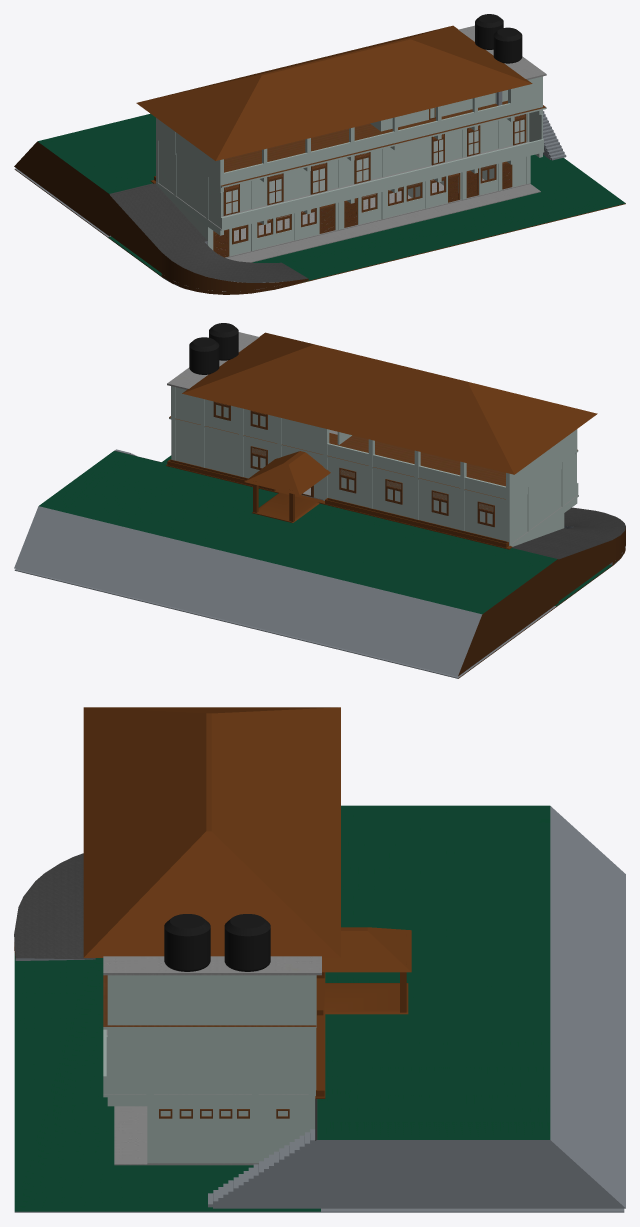
The model's file is building-2-compressed.glb.
3 renders of one model, top to bottom at view 1: azimuth 30°, elevation 25°; view 2: azimuth 150°, elevation 25°; view 3: azimuth 270°, elevation 25°, orthographic. The views are drawn at different scales.
Bounding box in the file's own units: 36.27 × 13.08 × 28.07.
Materials: 14 (13 with a texture image).
